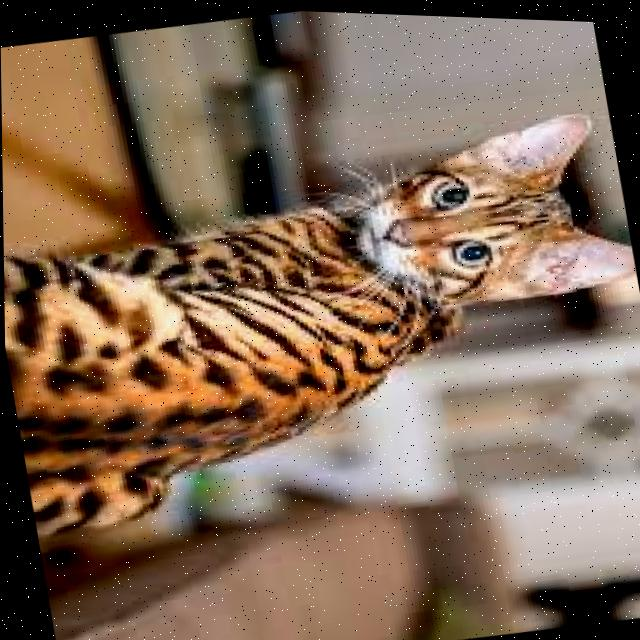Toyger: (1, 81, 640, 562)
